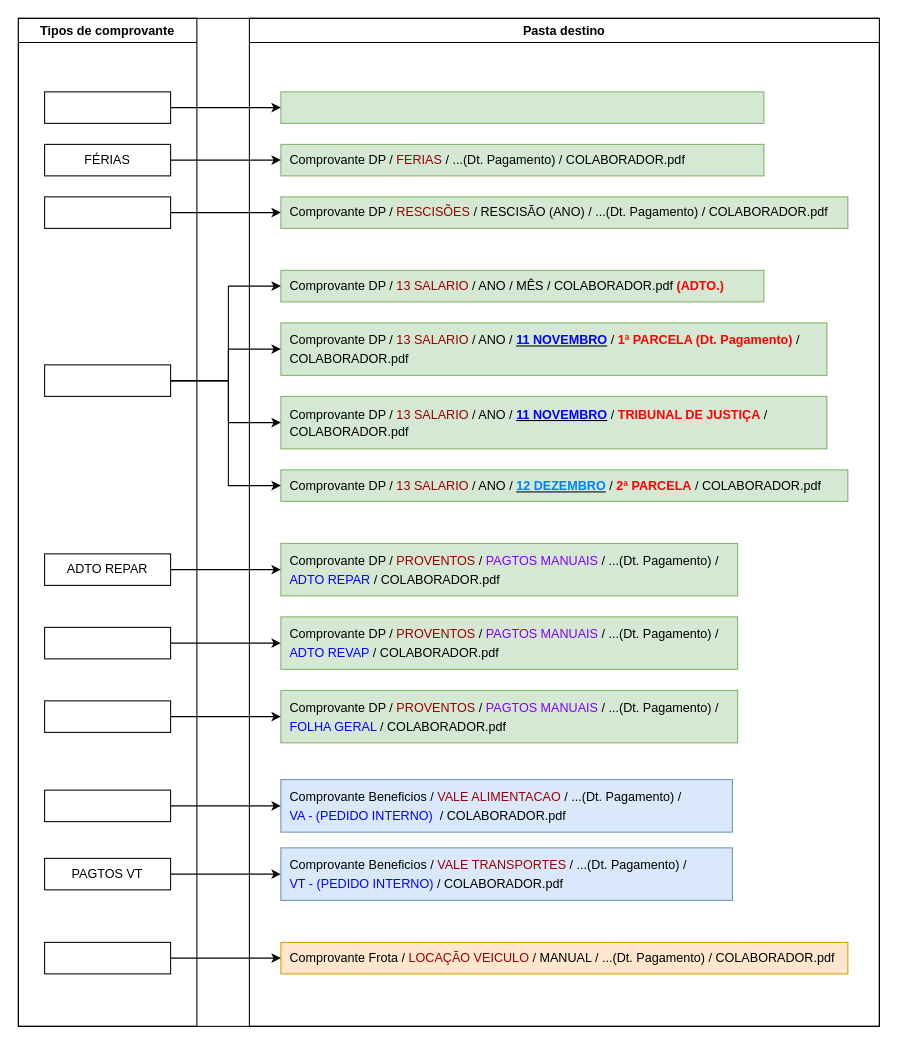
Some shapes in this 898 by 1045 pixel diagram are drawn without their labels. The shapes that lost their labels are listed below. From the top down, each one's box as (x1, y1, x2, y2) in pixels, then its label:
(44, 91, 171, 123): MULTA FGTS
(280, 91, 764, 123): Comprovante DP / MULTA FGTS / ...(Dt. Pagamento) / COLABORADOR.pdf
(44, 196, 171, 228): RESCISÃO
(44, 364, 171, 396): 13º SALÁRIO
(44, 626, 171, 659): ADTO REVAP
(44, 700, 171, 732): FOLHA
(44, 789, 171, 822): PAGTOS VA
(44, 941, 171, 974): LOCAÇÃO VEIC.
